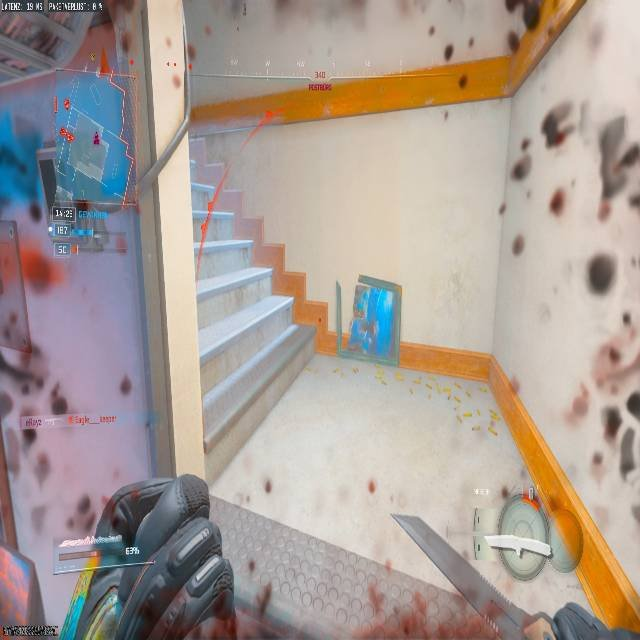head: (541, 98, 580, 148)
